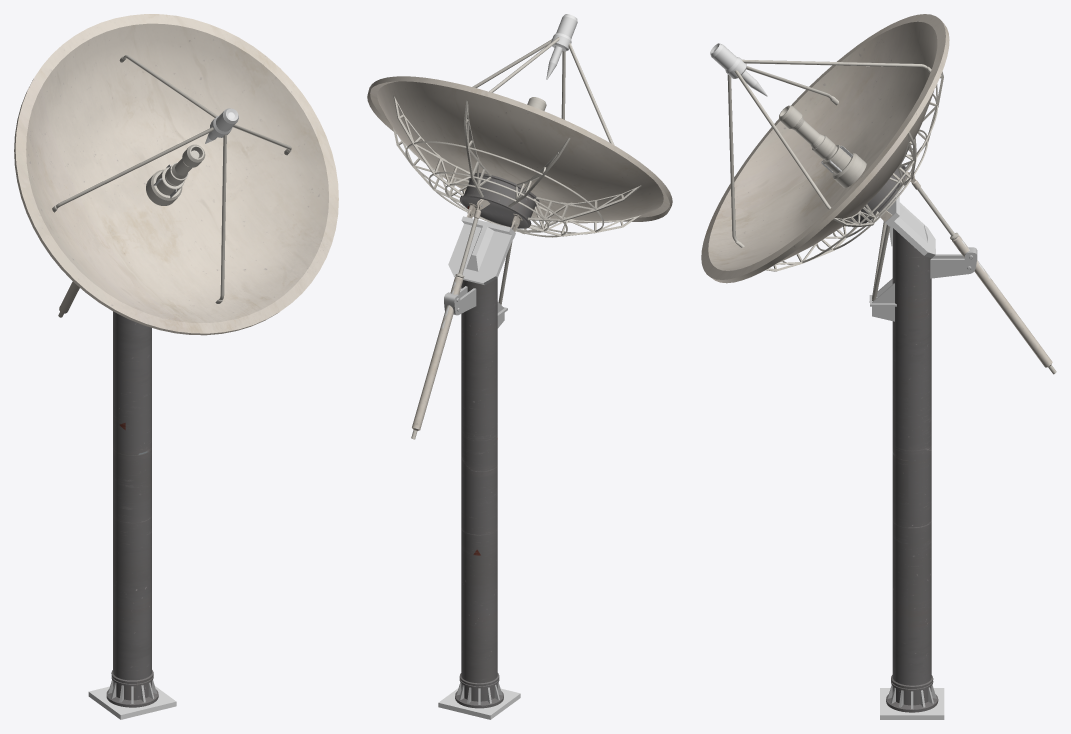
The model's file is KB3D_CBP_Antenna_H.fbx.
The picture shows the model from 3 angles, left to right: view 1: azimuth 30°, elevation 25°; view 2: azimuth 150°, elevation 25°; view 3: azimuth 270°, elevation 25°; orthographic projection. The views are drawn at different scales.
Parts seen in each view (by area): view 1: KB3D_CBP_Antenna_H_Main; view 2: KB3D_CBP_Antenna_H_Main; view 3: KB3D_CBP_Antenna_H_Main.
Boxes of the visible parts, x1=… form: KB3D_CBP_Antenna_H_Main: x1=14, y1=14, x2=338, y2=719; KB3D_CBP_Antenna_H_Main: x1=367, y1=14, x2=672, y2=719; KB3D_CBP_Antenna_H_Main: x1=701, y1=14, x2=1056, y2=719.
Size of the model in its own units: 305 by 652 by 313.
